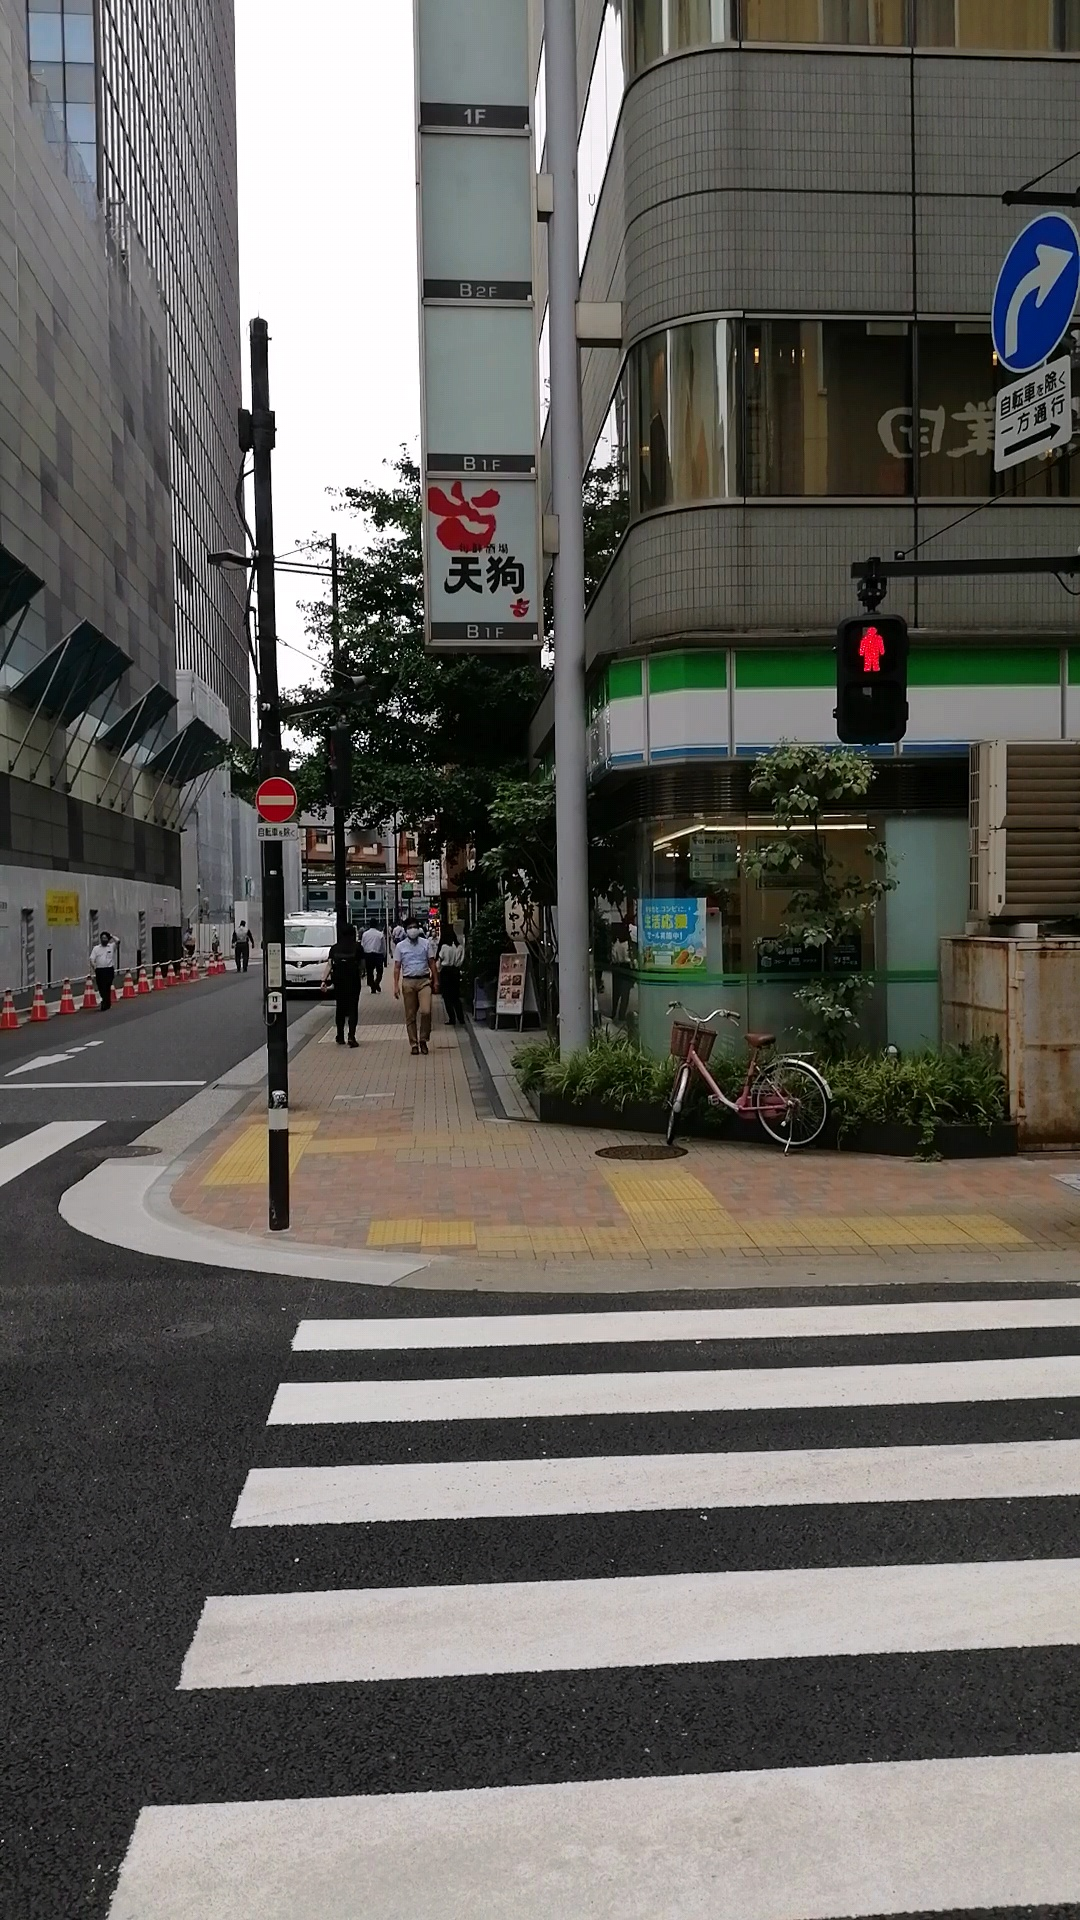red: (833, 616, 906, 746)
